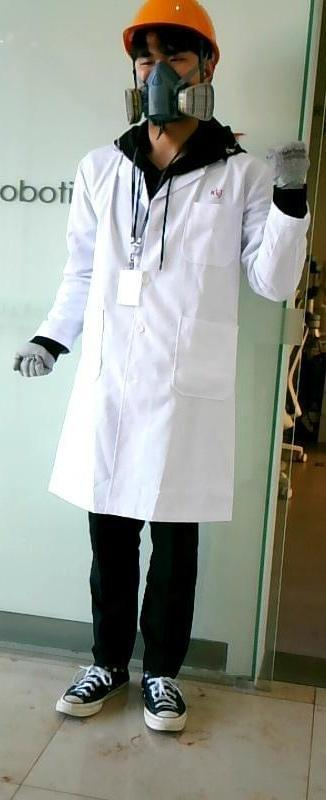lab_coat: (68, 165, 257, 503)
